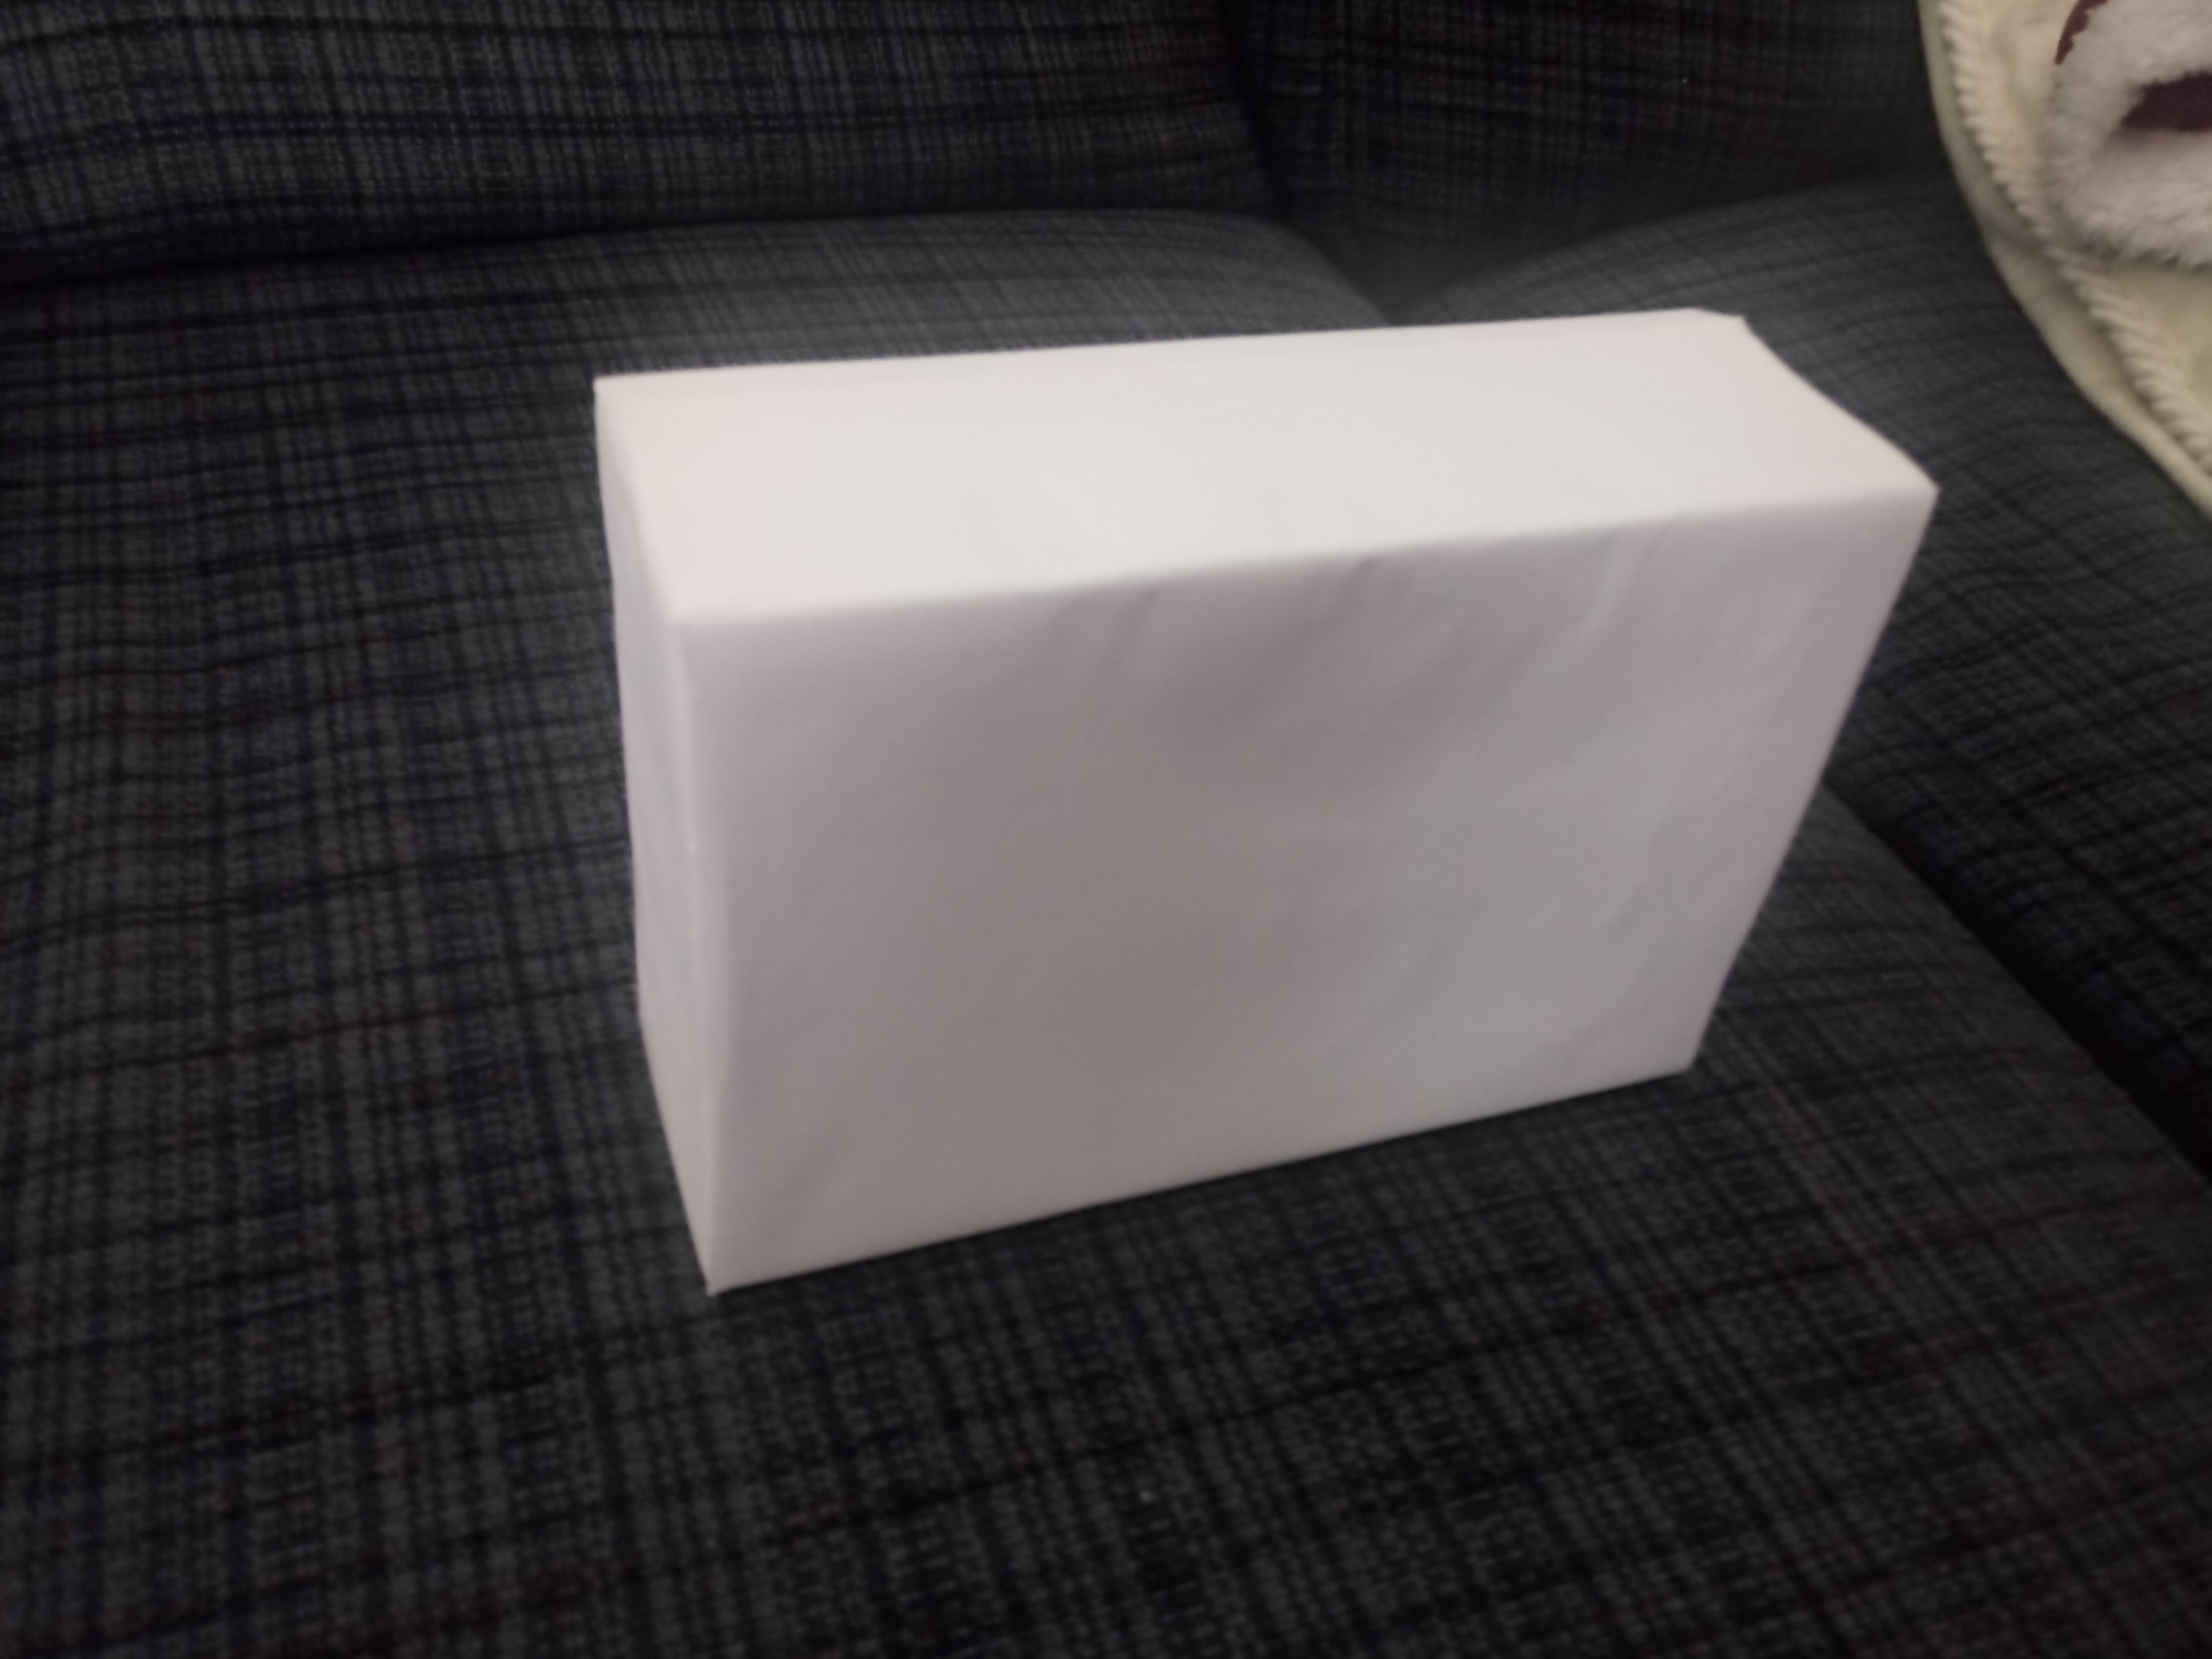white_box: (503, 289, 1963, 1316)
